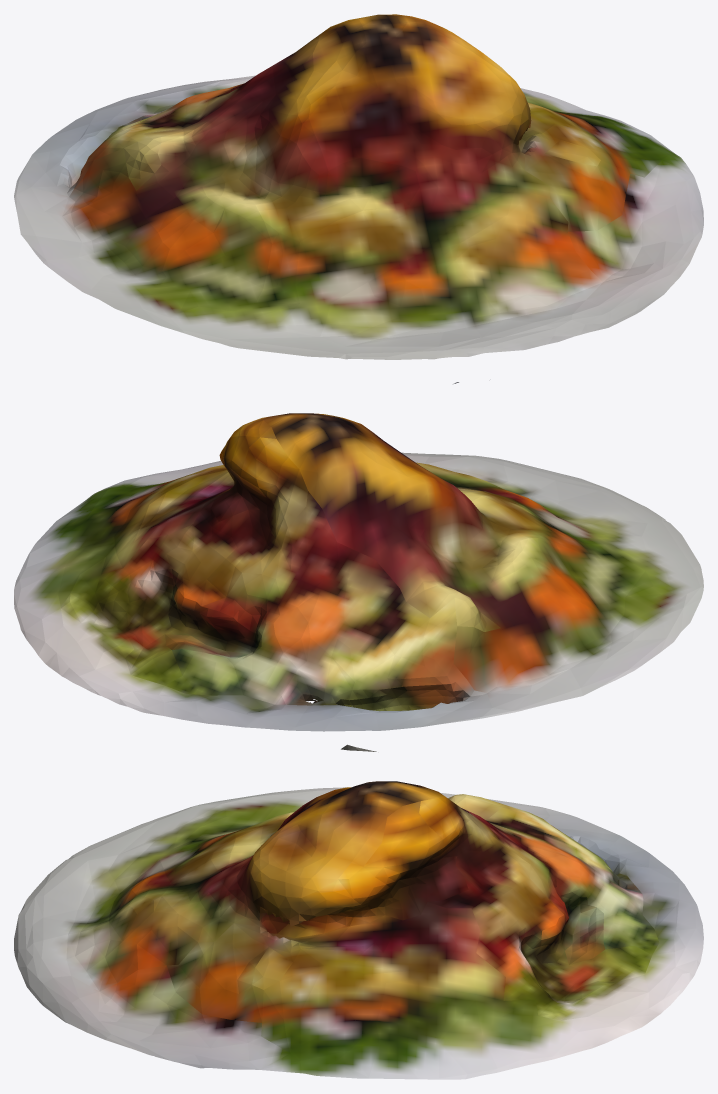
Rendered from scaniverse-20211020-82547 p.m..glb.
3 views of the same model, one above another, from view 1: azimuth 30°, elevation 25°; view 2: azimuth 150°, elevation 25°; view 3: azimuth 270°, elevation 25° (orthographic).
Visible parts, largest first — view 1: mesh; view 2: mesh; view 3: mesh.
Part boxes in pixels (x1,y1,x2,y2): mesh: (14,14,703,383); mesh: (14,413,703,751); mesh: (14,781,703,1079).
Size of the model in its own units: 0.2591 by 0.0831 by 0.2648.
Materials: 1 (1 with a texture image).
